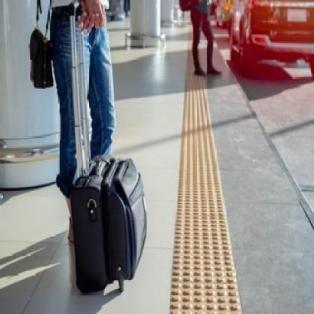Podoctatil: (166, 34, 243, 314)
